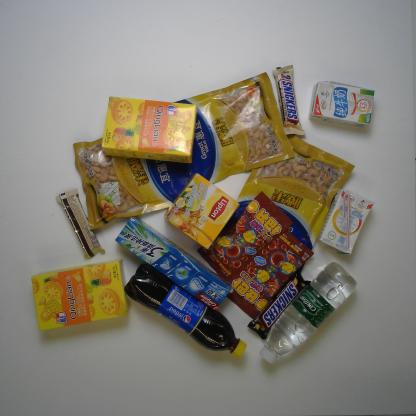Candy: (196, 190, 294, 284), (224, 229, 315, 320)
Chocolate: (247, 269, 311, 342), (54, 187, 107, 260), (272, 64, 306, 137)
Dessert: (31, 258, 131, 332), (100, 95, 198, 166)
Dried Fruit: (235, 134, 356, 251), (172, 70, 296, 184), (72, 136, 198, 231)
Drink: (123, 263, 248, 358), (259, 261, 358, 365)
Instant Drink: (163, 172, 241, 250)
Milk: (316, 186, 375, 256), (308, 80, 374, 127)
Personal Hygiene: (114, 216, 233, 311)
